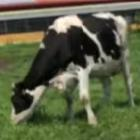cow: (9, 12, 134, 125)
